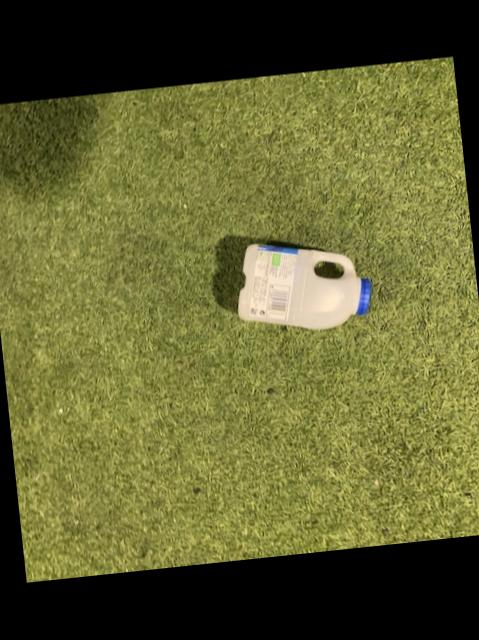plastic: (239, 244, 372, 327)
